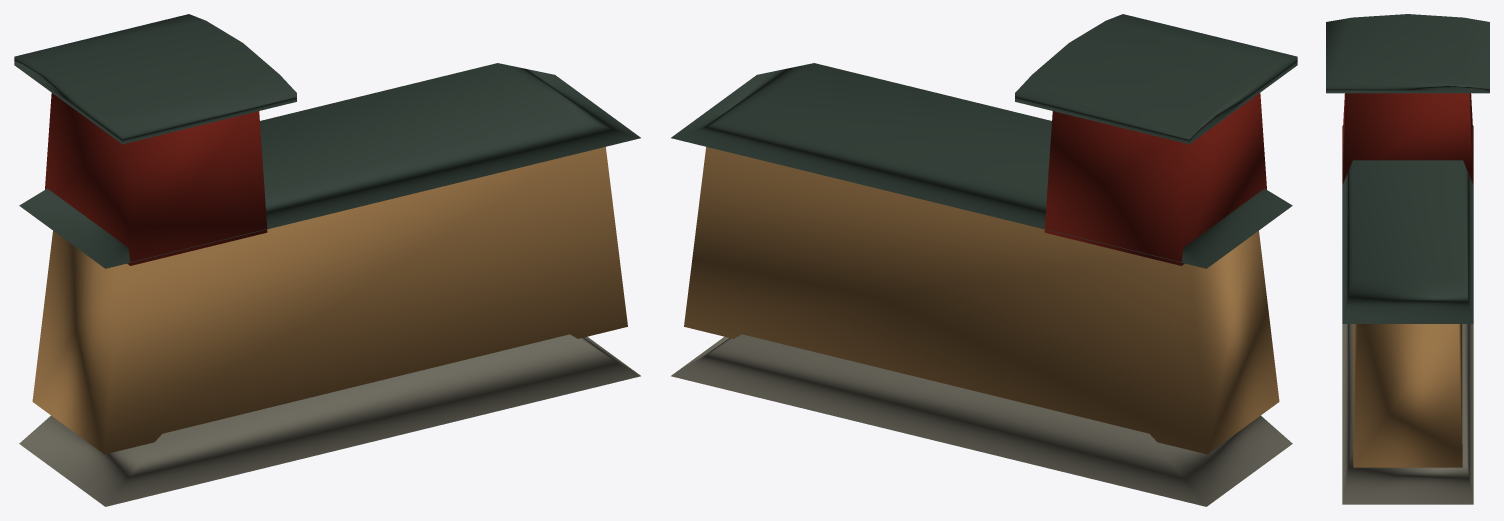
The model's file is R31_HAN_PALACE_WALL_PRODUCTION_A.fbx.
3 views of the same model, side by side, from view 1: azimuth 30°, elevation 25°; view 2: azimuth 150°, elevation 25°; view 3: azimuth 270°, elevation 25° (orthographic). The views are drawn at different scales.
Visible parts, largest first — view 1: wall, coping, foundation, watch, watch_roof; view 2: wall, coping, foundation, watch, watch_roof; view 3: coping, wall, watch_roof, watch, foundation.
Part boxes in pixels (bbox=[...]): wall: bbox=[32, 147, 627, 454]; coping: bbox=[19, 63, 640, 268]; foundation: bbox=[19, 334, 640, 506]; watch: bbox=[45, 93, 267, 265]; watch_roof: bbox=[14, 14, 296, 144]; wall: bbox=[684, 147, 1279, 454]; coping: bbox=[671, 63, 1292, 268]; foundation: bbox=[671, 334, 1292, 506]; watch: bbox=[1044, 93, 1266, 265]; watch_roof: bbox=[1015, 14, 1297, 144]; coping: bbox=[1342, 125, 1473, 323]; wall: bbox=[1353, 324, 1462, 467]; watch_roof: bbox=[1326, 14, 1489, 93]; watch: bbox=[1342, 93, 1473, 184]; foundation: bbox=[1342, 324, 1473, 504].
Bounding box in the file's own units: 87 × 59.53 × 30.
